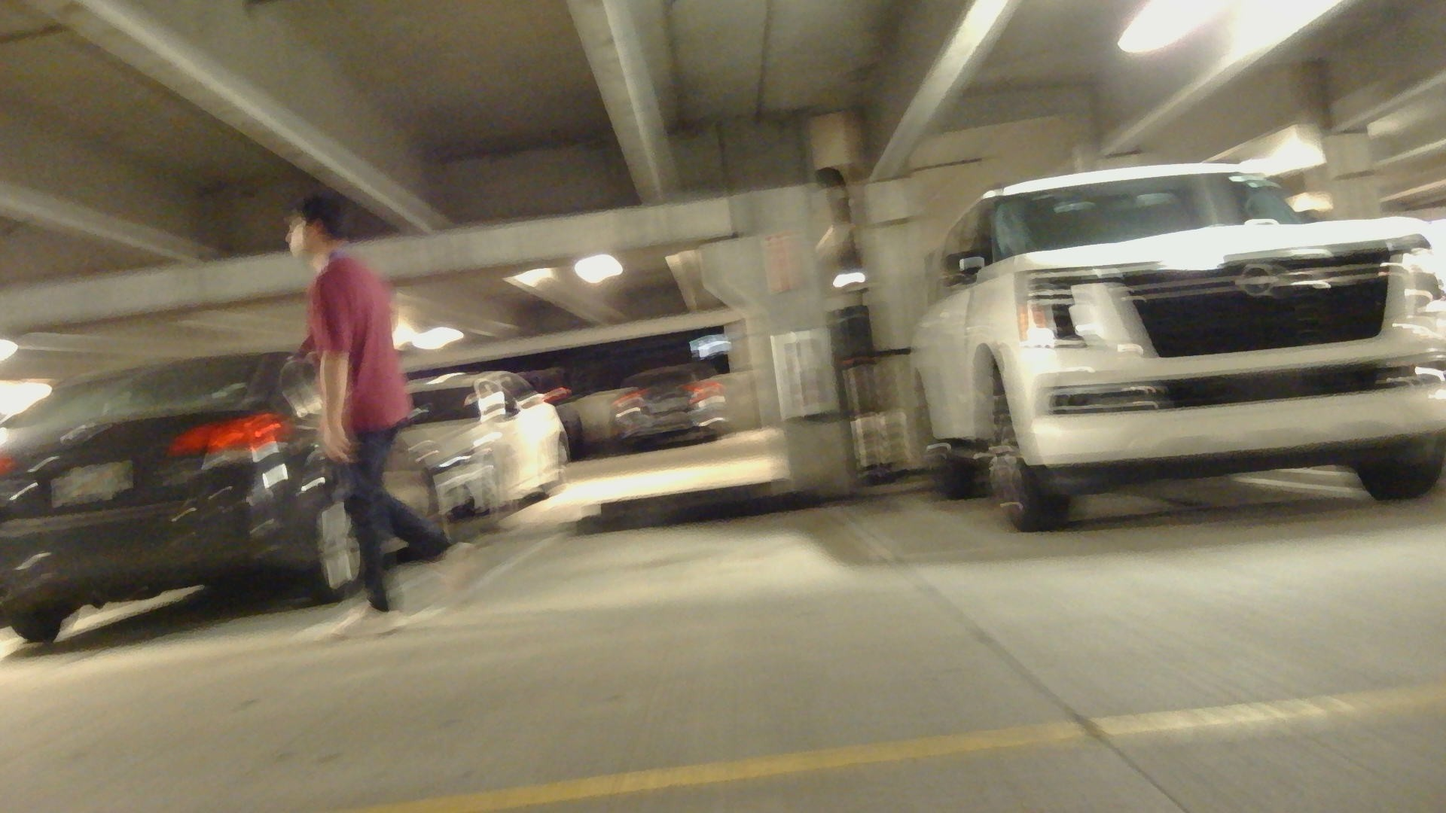empty_spot: (360, 477, 947, 632)
occupied_spot: (877, 132, 1446, 556), (0, 322, 470, 656)
